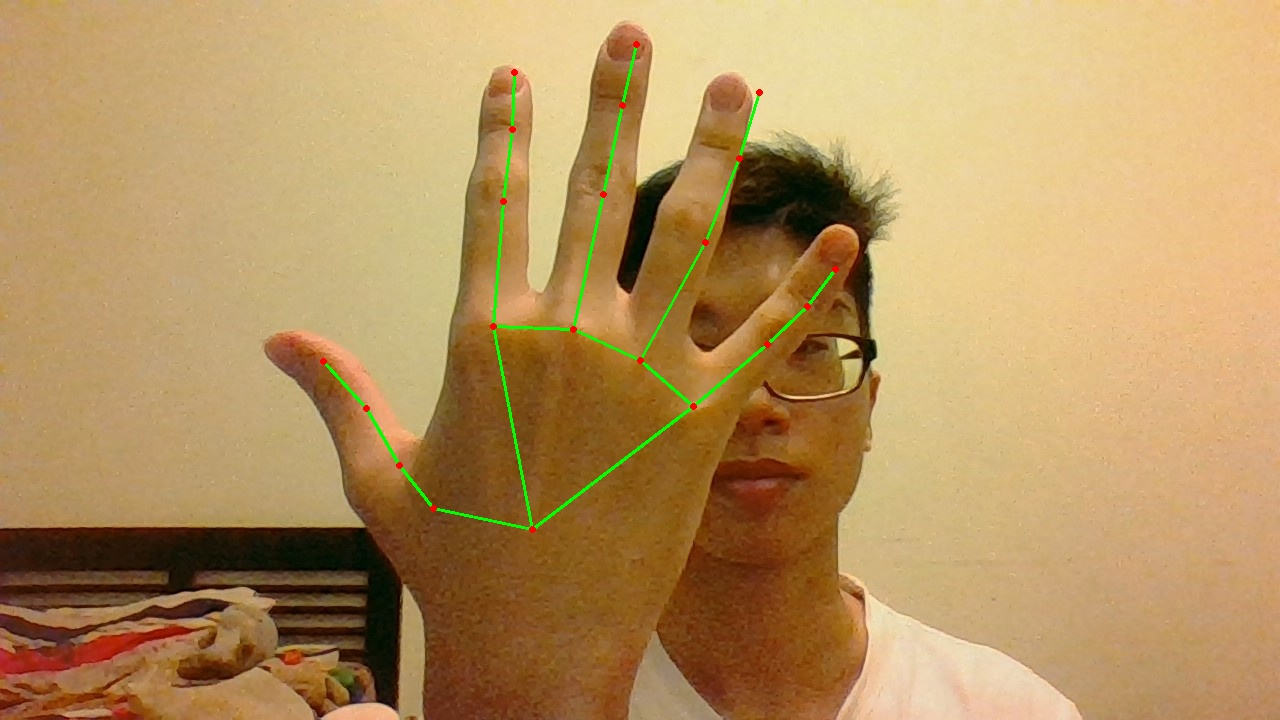Hello: (313, 33, 853, 543)
